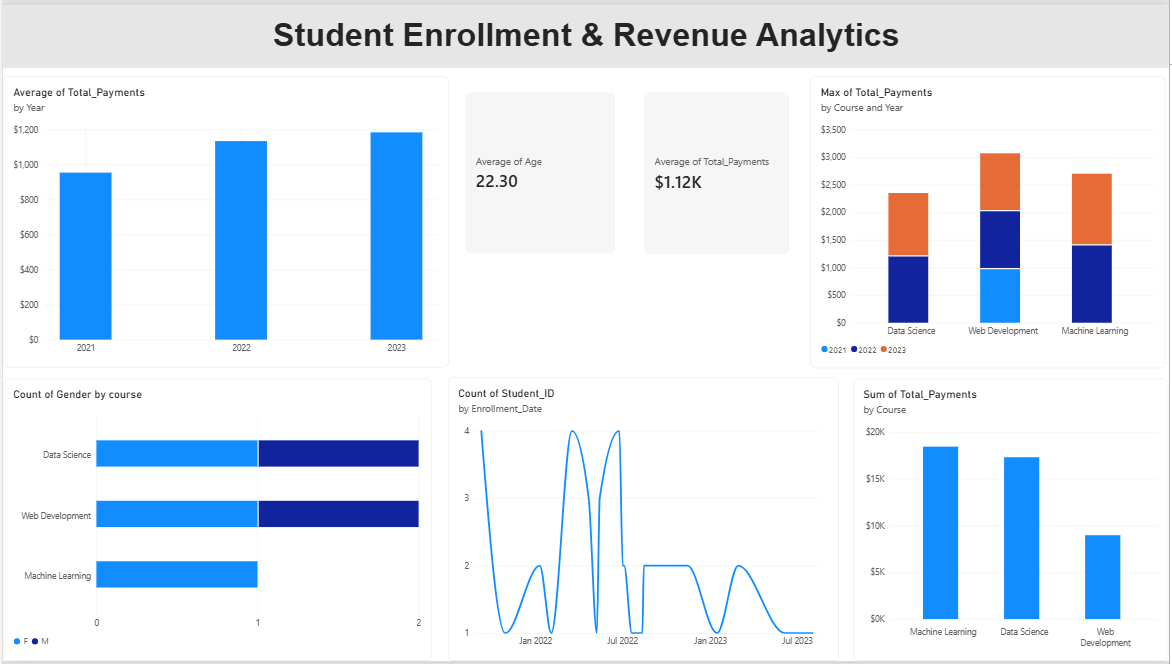

What the dashboard file says about the page in this screenshot:
{"tool":"powerbi","page":{"name":"Page 1","canvas":[1920,1080],"ordinal":0},"visuals":[{"type":"barChart","title":"Count of Gender by course","fields":{"Category":["Cleaned Dataset (2).Course"],"Y":["Count(Cleaned Dataset (2).Gender)"],"Series":["Cleaned Dataset (2).Gender"]},"box":[0,615.8,705.6,464],"z":0},{"type":"columnChart","fields":{"Category":["Cleaned Dataset (2).Course"],"Y":["Sum(Cleaned Dataset (2).Total_Payments)"]},"box":[1400.4,615.8,519.6,464],"z":1},{"type":"cardVisual","fields":{"Data":["Avg(Cleaned Dataset (2).Age)"]},"box":[761.2,143.3,247,265.5],"z":2},{"type":"cardVisual","fields":{"Data":["Avg(Cleaned Dataset (2).Total_Payments)"]},"box":[1056.2,143.3,238,266],"z":3},{"type":"lineChart","fields":{"Category":["Cleaned Dataset (2).Enrollment_Date"],"Y":["Count(Cleaned Dataset (2).Student_ID)"]},"box":[733.4,613.6,643.6,466.1],"z":4},{"type":"lineStackedColumnComboChart","fields":{"Category":["Cleaned Dataset (2).Enrollment_Date.Variation.Date Hierarchy.Year"],"Y":["Avg(Cleaned Dataset (2).Total_Payments)"]},"box":[0,117.6,733.4,478.9],"z":5},{"type":"textbox","box":[0,0,1921.4,102.4],"z":7},{"type":"columnChart","fields":{"Category":["Cleaned Dataset (2).Course"],"Y":["Max(Cleaned Dataset (2).Total_Payments)"],"Series":["Cleaned Dataset (2).Enrollment_Date.Variation.Date Hierarchy.Year"]},"box":[1329.9,117.6,583.7,481.1],"z":8}]}

Visuals, with their boxes in screenshot pixels (x1, y1, x2, y2), scaled from the page's 1920x1080 canvas onto the 1172x664 screenshot:
"Count of Gender by course" barChart: region(0, 379, 431, 663)
columnChart - Cleaned Dataset (2).Course x Sum(Cleaned Dataset (2).Total_Payments): region(855, 379, 1171, 663)
cardVisual - Avg(Cleaned Dataset (2).Age): region(465, 88, 615, 251)
cardVisual - Avg(Cleaned Dataset (2).Total_Payments): region(645, 88, 790, 252)
lineChart - Cleaned Dataset (2).Enrollment_Date x Count(Cleaned Dataset (2).Student_ID): region(448, 377, 841, 663)
lineStackedColumnComboChart - Cleaned Dataset (2).Enrollment_Date.Variation.Date Hierarchy.Year x Avg(Cleaned Dataset (2).Total_Payments): region(0, 72, 448, 367)
textbox: region(0, 0, 1171, 63)
columnChart - Cleaned Dataset (2).Course x Max(Cleaned Dataset (2).Total_Payments): region(812, 72, 1168, 368)
